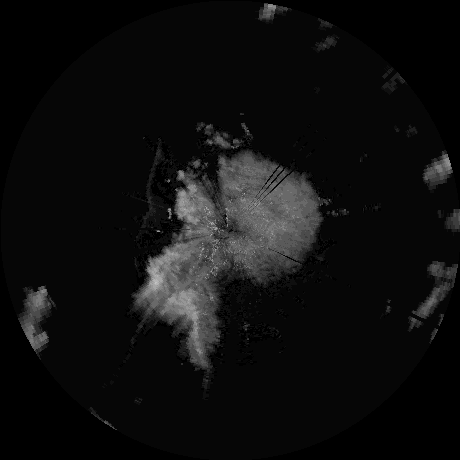frontgust: (141, 140, 163, 231)
